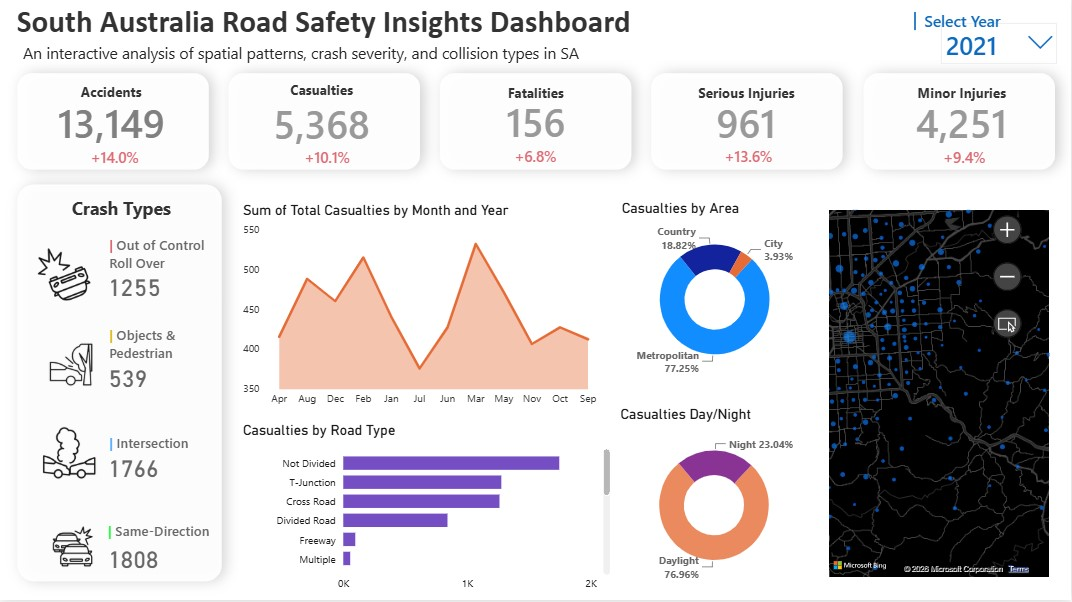

The page's visual inventory and layout, read from the dashboard file:
{"tool":"powerbi","page":{"name":"Page 1","canvas":[1280,720],"ordinal":0},"visuals":[{"type":"group","id":"g1","title":"Group 2","box":[286.1,100.1,195,119.4],"z":0,"group":"g3"},{"type":"group","id":"g2","title":"Group 3","box":[286.1,100.1,195,119.4],"z":0,"group":"g1"},{"type":"cardVisual","title":"Casualties","fields":{"Data":["bb05bb0d-f9a4-4638-8992-81d5fb9.CY Casualties"]},"box":[286.1,100.1,195,87.5],"z":0,"group":"g2"},{"type":"cardVisual","title":"Accidents","fields":{"Data":["bb05bb0d-f9a4-4638-8992-81d5fb9.Total CY Accidents"]},"box":[35.2,101.9,194,84],"z":0,"group":"g4"},{"type":"cardVisual","title":" Minor Injuries","fields":{"Data":["bb05bb0d-f9a4-4638-8992-81d5fb9.CY Casualties"]},"box":[1050,102.5,195.3,82.7],"z":0,"group":"g7"},{"type":"cardVisual","title":" Serious Injuries","fields":{"Data":["bb05bb0d-f9a4-4638-8992-81d5fb9.CY Casualties"]},"box":[792,102.9,197.3,82],"z":0,"group":"g6"},{"type":"cardVisual","title":"Fatalities","fields":{"Data":["bb05bb0d-f9a4-4638-8992-81d5fb9.CY Casualties"]},"box":[541.4,103.1,196.2,81.5],"z":0,"group":"g5"},{"type":"shape","title":"LEFT Bottom","box":[0,202.9,285.7,515.7],"z":0},{"type":"cardVisual","fields":{"Data":["bb05bb0d-f9a4-4638-8992-81d5fb9.YoY Casualties"]},"box":[835.4,156,131.5,65.1],"z":1000,"group":"g6"},{"type":"cardVisual","fields":{"Data":["bb05bb0d-f9a4-4638-8992-81d5fb9.YoY Casualties"]},"box":[584.8,156.2,130.3,63.9],"z":1000,"group":"g5"},{"type":"cardVisual","fields":{"Data":["bb05bb0d-f9a4-4638-8992-81d5fb9.YoY Casualties"]},"box":[333.2,159.2,131.5,60.3],"z":1000,"group":"g2"},{"type":"cardVisual","fields":{"Data":["bb05bb0d-f9a4-4638-8992-81d5fb9.YoY Casualties"]},"box":[1095.8,159.2,131.5,60.3],"z":1000,"group":"g7"},{"type":"cardVisual","fields":{"Data":["bb05bb0d-f9a4-4638-8992-81d5fb9.YoY Accidents"]},"box":[78.6,159.8,131.5,61.5],"z":1000,"group":"g4"},{"type":"cardVisual","title":"vasdv","fields":{"Data":["bb05bb0d-f9a4-4638-8992-81d5fb9.CY Casualties"],"Rows":["bb05bb0d-f9a4-4638-8992-81d5fb9.Crash Type (groups)"]},"box":[97.1,267.1,378.6,434.3],"z":1000},{"type":"shape","title":"Card 1","box":[0,70,270.2,156.8],"z":2000},{"type":"shape","title":"Card 3","box":[504.9,70,270.2,156.8],"z":3000},{"type":"image","box":[24.3,273.4,105.7,117.1],"z":3000,"group":"g8"},{"type":"shape","title":"Card 2","box":[252.4,70,270.2,156.8],"z":4000},{"type":"shape","title":"Card 4","box":[757.3,70,270.2,156.8],"z":5000},{"type":"image","box":[42.9,383.4,91.4,110],"z":5000,"group":"g8"},{"type":"shape","title":"Card 5","box":[1009.8,70,270.2,156.8],"z":6000},{"type":"image","box":[31.4,469.1,98.6,151.4],"z":7000,"group":"g8"},{"type":"slicer","title":"Select Year","fields":{"Values":["Calendar.Year"]},"box":[1117.1,24.3,152.9,67.1],"z":8000},{"type":"image","box":[50,596.3,77.1,122.9],"z":9000,"group":"g8"},{"type":"group","id":"g3","title":"Group 1","box":[286.1,100.1,195,119.4],"z":10000},{"type":"group","id":"g4","title":"Group 1","box":[35.2,101.9,194,119.4],"z":11000},{"type":"group","id":"g5","title":"Group 3","box":[541.4,103.1,196.2,117],"z":12000},{"type":"group","id":"g6","title":"Group 3","box":[792,102.9,197.3,118.2],"z":13000},{"type":"group","id":"g7","title":"Group 3","box":[1050,102.5,195.3,117],"z":14000},{"type":"textbox","box":[14.3,1.4,748.6,67.1],"z":15000},{"type":"textbox","box":[80,232.9,165.7,68.6],"z":16000},{"type":"areaChart","fields":{"Category":["Calendar.Month"],"Y":["Sum(bb05bb0d-f9a4-4638-8992-81d5fb9.Total Casualties)"],"Series":["Calendar.Date.Variation.Date Hierarchy.Year"]},"box":[285.7,244.7,435.7,252.9],"z":17000},{"type":"donutChart","title":"Casualties by Area","fields":{"Y":["bb05bb0d-f9a4-4638-8992-81d5fb9.CY Casualties"],"Category":["bb05bb0d-f9a4-4638-8992-81d5fb9.Stats Area.2"]},"box":[737.5,241.9,232.5,220],"z":18000},{"type":"donutChart","title":"Casualties Day/Night","fields":{"Y":["bb05bb0d-f9a4-4638-8992-81d5fb9.CY Casualties"],"Category":["bb05bb0d-f9a4-4638-8992-81d5fb9.DayNight"]},"box":[736.2,488.1,233.8,218.8],"z":19000},{"type":"barChart","title":"Casualties by Road Type","fields":{"Y":["bb05bb0d-f9a4-4638-8992-81d5fb9.CY Casualties"],"Category":["bb05bb0d-f9a4-4638-8992-81d5fb9.Position Type"]},"box":[285.7,507.6,448.6,211.4],"z":20000},{"type":"map","title":"Casualties by Location","fields":{"Size":["bb05bb0d-f9a4-4638-8992-81d5fb9.CY Casualties"],"Category":["bb05bb0d-f9a4-4638-8992-81d5fb9.Full_Address"]},"box":[985.7,230.4,272.9,468.6],"z":21000},{"type":"textbox","box":[124.7,278.6,240,55.7],"z":22000},{"type":"textbox","box":[124.7,387.1,238.6,57.1],"z":23000},{"type":"textbox","box":[124.7,515.7,125.7,55.7],"z":24000},{"type":"textbox","box":[124.3,621.4,145.7,55.7],"z":25000},{"type":"group","id":"g8","title":"Group 4","box":[24.3,273.4,110,445.7],"z":26000},{"type":"textbox","box":[1098.6,10,115.7,44.3],"z":27000},{"type":"shape","box":[974.2,18.3,235.8,21.7],"z":28000},{"type":"textbox","box":[22.9,48.6,700,40],"z":29000}]}

Visuals, with their boxes in screenshot pixels (x1, y1, x2, y2), scaled from the page's 1280x720 canvas onto the 1072x602 screenshot:
"Group 2" group: bbox=(240, 84, 403, 184)
"Group 3" group: bbox=(240, 84, 403, 184)
"Casualties" cardVisual: bbox=(240, 84, 403, 157)
"Accidents" cardVisual: bbox=(29, 85, 192, 155)
" Minor Injuries" cardVisual: bbox=(879, 86, 1043, 155)
" Serious Injuries" cardVisual: bbox=(663, 86, 829, 155)
"Fatalities" cardVisual: bbox=(453, 86, 618, 154)
"LEFT Bottom" shape: bbox=(0, 170, 239, 601)
cardVisual - bb05bb0d-f9a4-4638-8992-81d5fb9.YoY Casualties: bbox=(700, 130, 810, 185)
cardVisual - bb05bb0d-f9a4-4638-8992-81d5fb9.YoY Casualties: bbox=(490, 131, 599, 184)
cardVisual - bb05bb0d-f9a4-4638-8992-81d5fb9.YoY Casualties: bbox=(279, 133, 389, 184)
cardVisual - bb05bb0d-f9a4-4638-8992-81d5fb9.YoY Casualties: bbox=(918, 133, 1028, 184)
cardVisual - bb05bb0d-f9a4-4638-8992-81d5fb9.YoY Accidents: bbox=(66, 134, 176, 185)
"vasdv" cardVisual: bbox=(81, 223, 398, 586)
"Card 1" shape: bbox=(0, 59, 226, 190)
"Card 3" shape: bbox=(423, 59, 649, 190)
image: bbox=(20, 229, 109, 327)
"Card 2" shape: bbox=(211, 59, 438, 190)
"Card 4" shape: bbox=(634, 59, 861, 190)
image: bbox=(36, 321, 112, 413)
"Card 5" shape: bbox=(846, 59, 1071, 190)
image: bbox=(26, 392, 109, 519)
"Select Year" slicer: bbox=(936, 20, 1064, 76)
image: bbox=(42, 499, 106, 601)
"Group 1" group: bbox=(240, 84, 403, 184)
"Group 1" group: bbox=(29, 85, 192, 185)
"Group 3" group: bbox=(453, 86, 618, 184)
"Group 3" group: bbox=(663, 86, 829, 185)
"Group 3" group: bbox=(879, 86, 1043, 184)
textbox: bbox=(12, 1, 639, 57)
textbox: bbox=(67, 195, 206, 252)
areaChart - Calendar.Month x Sum(bb05bb0d-f9a4-4638-8992-81d5fb9.Total Casualties): bbox=(239, 205, 604, 416)
"Casualties by Area" donutChart: bbox=(618, 202, 812, 386)
"Casualties Day/Night" donutChart: bbox=(617, 408, 812, 591)
"Casualties by Road Type" barChart: bbox=(239, 424, 615, 601)
"Casualties by Location" map: bbox=(826, 193, 1054, 584)
textbox: bbox=(104, 233, 305, 280)
textbox: bbox=(104, 324, 304, 371)
textbox: bbox=(104, 431, 210, 478)
textbox: bbox=(104, 520, 226, 566)
"Group 4" group: bbox=(20, 229, 112, 601)
textbox: bbox=(920, 8, 1017, 45)
shape: bbox=(816, 15, 1013, 33)
textbox: bbox=(19, 41, 605, 74)
